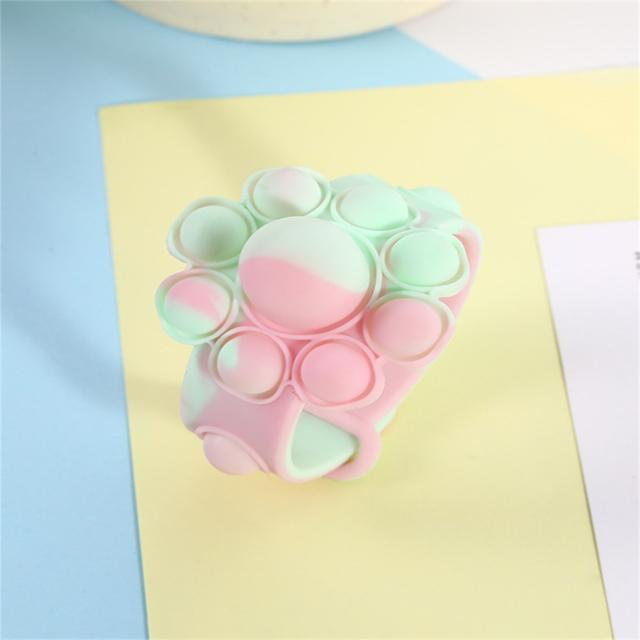bracelet: (110, 119, 575, 576)
